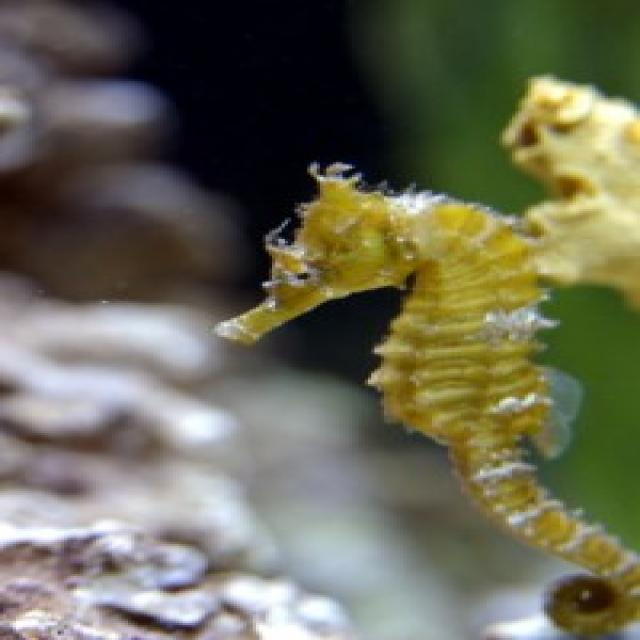Seahorse: (211, 158, 640, 640)
